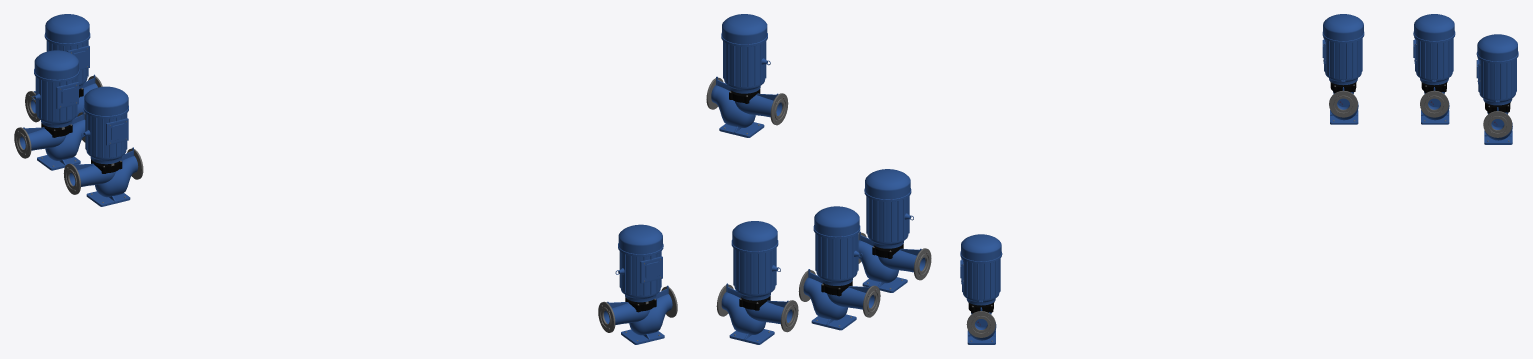
The model's file is EQ_变频泵.fbx.
The picture shows the model from 3 angles, left to right: view 1: azimuth 30°, elevation 25°; view 2: azimuth 150°, elevation 25°; view 3: azimuth 270°, elevation 25°; orthographic projection. The views are drawn at different scales.
Visible parts, largest first — view 1: EQ_变频泵, EQ_变频泵_ 零件_054, EQ_变频泵_ 零件_020, EQ_变频泵_ 零件_037, EQ_变频泵_ 零件_058, EQ_变频泵_ 零件_024; view 2: EQ_变频泵, EQ_变频泵_ 零件_020, EQ_变频泵_ 零件_037, EQ_变频泵_ 零件_054, EQ_变频泵_ 零件_041, EQ_变频泵_ 零件_024, EQ_变频泵_ 零件_058, EQ_变频泵_ 零件_059, EQ_变频泵_ 零件_025, EQ_变频泵_ 零件_042, EQ_变频泵_ 零件_044, EQ_变频泵_ 零件_027 (+7 smaller); view 3: EQ_变频泵, EQ_变频泵_ 零件_054, EQ_变频泵_ 零件_037, EQ_变频泵_ 零件_020, EQ_变频泵_ 零件_050, EQ_变频泵_ 零件_067, EQ_变频泵_ 零件_033.
Boxes of the visible parts, bbox=[...] form: EQ_变频泵: bbox=[63, 86, 143, 206]; EQ_变频泵_ 零件_054: bbox=[618, 224, 663, 302]; EQ_变频泵_ 零件_020: bbox=[34, 50, 79, 127]; EQ_变频泵_ 零件_037: bbox=[44, 14, 90, 89]; EQ_变频泵_ 零件_058: bbox=[604, 285, 672, 339]; EQ_变频泵_ 零件_024: bbox=[20, 111, 85, 165]; EQ_变频泵: bbox=[858, 169, 931, 292]; EQ_变频泵_ 零件_020: bbox=[813, 206, 860, 285]; EQ_变频泵_ 零件_037: bbox=[731, 221, 778, 300]; EQ_变频泵_ 零件_054: bbox=[721, 14, 767, 93]; EQ_变频泵_ 零件_041: bbox=[721, 283, 792, 339]; EQ_变频泵_ 零件_024: bbox=[803, 269, 874, 324]; EQ_变频泵_ 零件_058: bbox=[711, 76, 782, 132]; EQ_变频泵_ 零件_059: bbox=[770, 93, 788, 125]; EQ_变频泵_ 零件_025: bbox=[862, 285, 880, 317]; EQ_变频泵_ 零件_042: bbox=[780, 300, 798, 332]; EQ_变频泵_ 零件_044: bbox=[729, 329, 774, 344]; EQ_变频泵_ 零件_027: bbox=[811, 314, 856, 330]; EQ_变频泵: bbox=[1322, 14, 1364, 124]; EQ_变频泵_ 零件_054: bbox=[960, 234, 1002, 305]; EQ_变频泵_ 零件_037: bbox=[1476, 34, 1518, 105]; EQ_变频泵_ 零件_020: bbox=[1413, 14, 1455, 85]; EQ_变频泵_ 零件_050: bbox=[1483, 111, 1512, 137]; EQ_变频泵_ 零件_067: bbox=[966, 311, 995, 337]; EQ_变频泵_ 零件_033: bbox=[1420, 90, 1448, 117].
Size of the model in its own units: 1284 by 559 by 1683.
